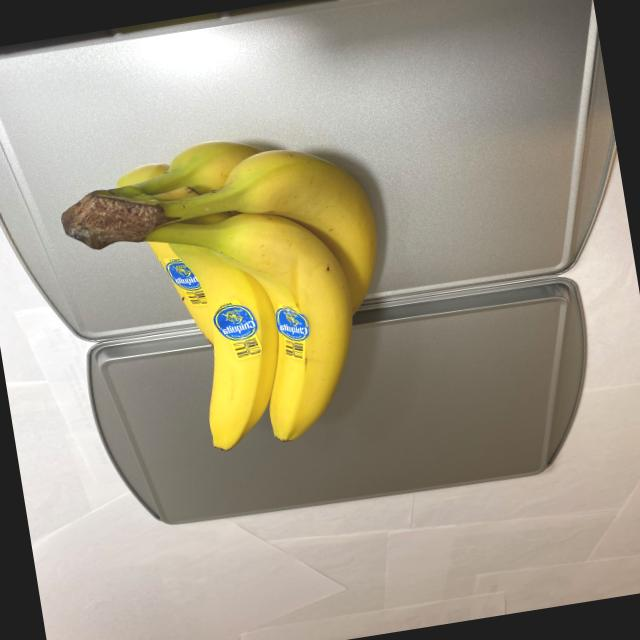banana: (42, 113, 424, 476)
